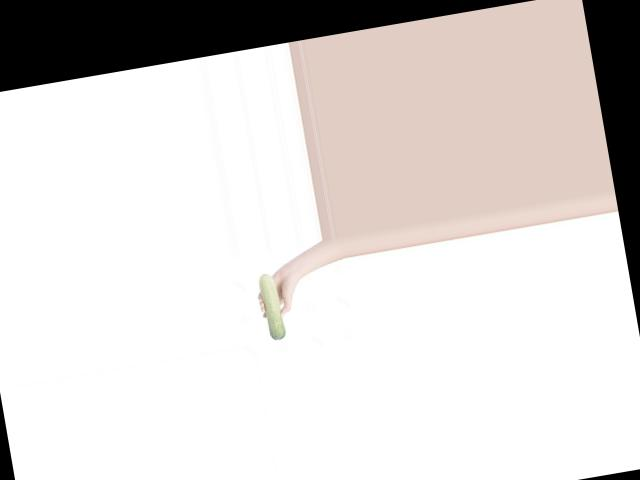cucumber: (258, 270, 288, 341)
